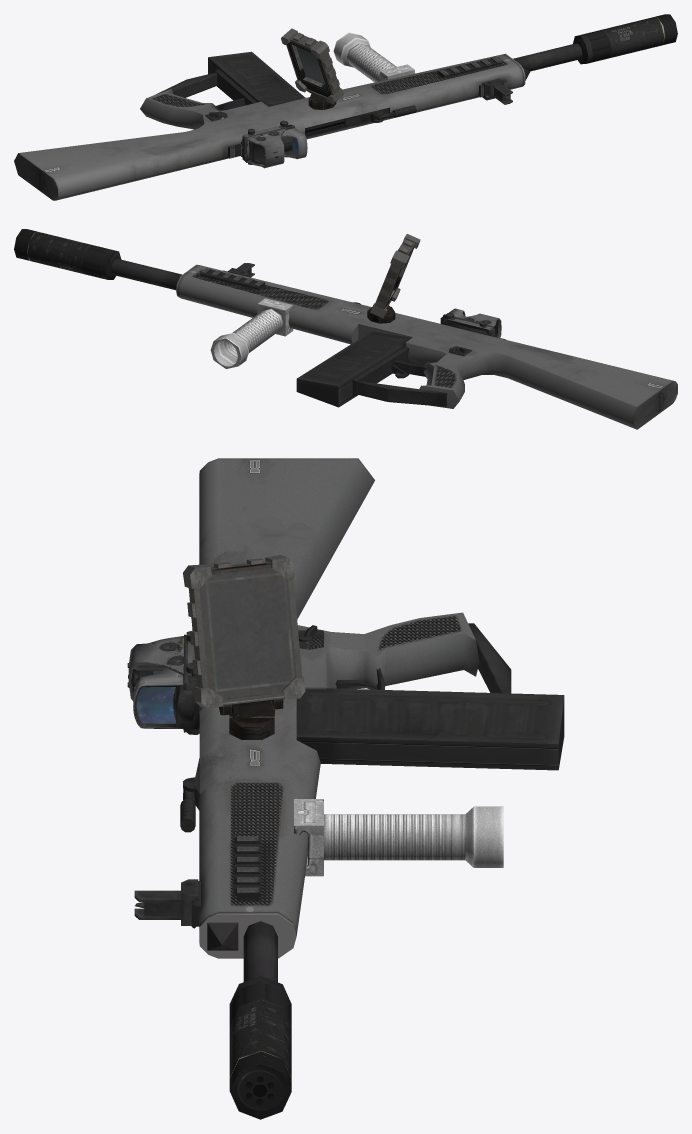
File: weapon_aa12_2_red_tiger_LOD0.obj
The picture shows the model from 3 angles, top to bottom: view 1: azimuth 30°, elevation 25°; view 2: azimuth 150°, elevation 25°; view 3: azimuth 270°, elevation 25°; orthographic projection. The views are drawn at different scales.
Visible parts, largest first — view 1: mtl_weapon_aa12_2_red_tiger, mtl_weapon_suppressor_b, mtl_weapon_motion_tracker_red_tiger, mtl_weapon_scar_h_foregrip, mtl_weapon_eotech_2_red_tiger, mtl_weapon_red_dot_sight_red_tiger, mtl_weapon_aa12_2_sight_on; view 2: mtl_weapon_aa12_2_red_tiger, mtl_weapon_suppressor_b, mtl_weapon_scar_h_foregrip, mtl_weapon_motion_tracker_red_tiger, mtl_weapon_eotech_2_red_tiger, mtl_weapon_red_dot_sight_red_tiger; view 3: mtl_weapon_aa12_2_red_tiger, mtl_weapon_motion_tracker_red_tiger, mtl_weapon_scar_h_foregrip, mtl_weapon_suppressor_b, mtl_weapon_eotech_2_red_tiger, mtl_weapon_aa12_2_sight_on, mtl_weapon_red_dot_sight_red_tiger, mtl_weapon_reflex_lens.
Part boxes in pixels (x1,y1,x2,y2): mtl_weapon_aa12_2_red_tiger: (14, 43, 582, 200); mtl_weapon_suppressor_b: (573, 14, 677, 64); mtl_weapon_motion_tracker_red_tiger: (281, 28, 343, 109); mtl_weapon_scar_h_foregrip: (333, 32, 414, 82); mtl_weapon_eotech_2_red_tiger: (242, 125, 292, 168); mtl_weapon_red_dot_sight_red_tiger: (242, 120, 307, 164); mtl_weapon_aa12_2_sight_on: (241, 78, 512, 163); mtl_weapon_aa12_2_red_tiger: (111, 259, 677, 429); mtl_weapon_suppressor_b: (14, 229, 121, 279); mtl_weapon_scar_h_foregrip: (210, 298, 293, 368); mtl_weapon_motion_tracker_red_tiger: (367, 234, 420, 323); mtl_weapon_eotech_2_red_tiger: (442, 313, 501, 337); mtl_weapon_red_dot_sight_red_tiger: (440, 308, 495, 336); mtl_weapon_aa12_2_red_tiger: (180, 458, 564, 982); mtl_weapon_motion_tracker_red_tiger: (183, 555, 305, 739); mtl_weapon_scar_h_foregrip: (294, 799, 503, 876); mtl_weapon_suppressor_b: (229, 976, 291, 1119); mtl_weapon_eotech_2_red_tiger: (128, 636, 197, 723); mtl_weapon_aa12_2_sight_on: (127, 663, 198, 925); mtl_weapon_red_dot_sight_red_tiger: (133, 631, 199, 734); mtl_weapon_reflex_lens: (136, 687, 175, 723).
Size of the model in its own units: 106 by 16.75 by 32.05.
